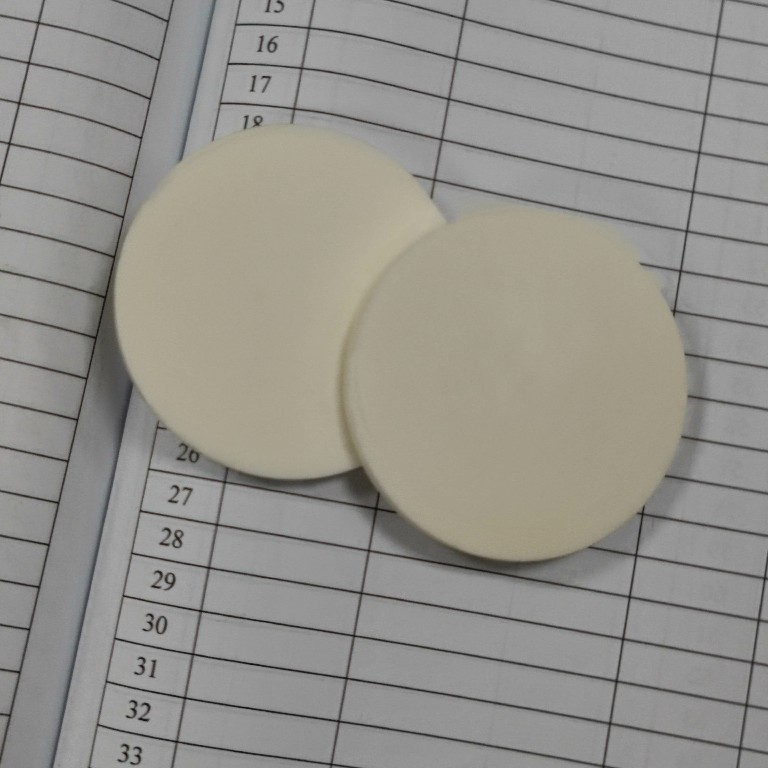ceramics: (103, 117, 702, 573)
